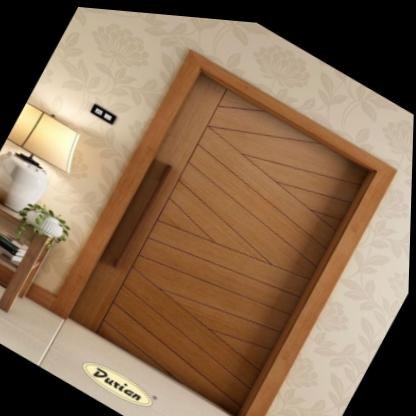Ceramic floor: (0, 299, 238, 416)
